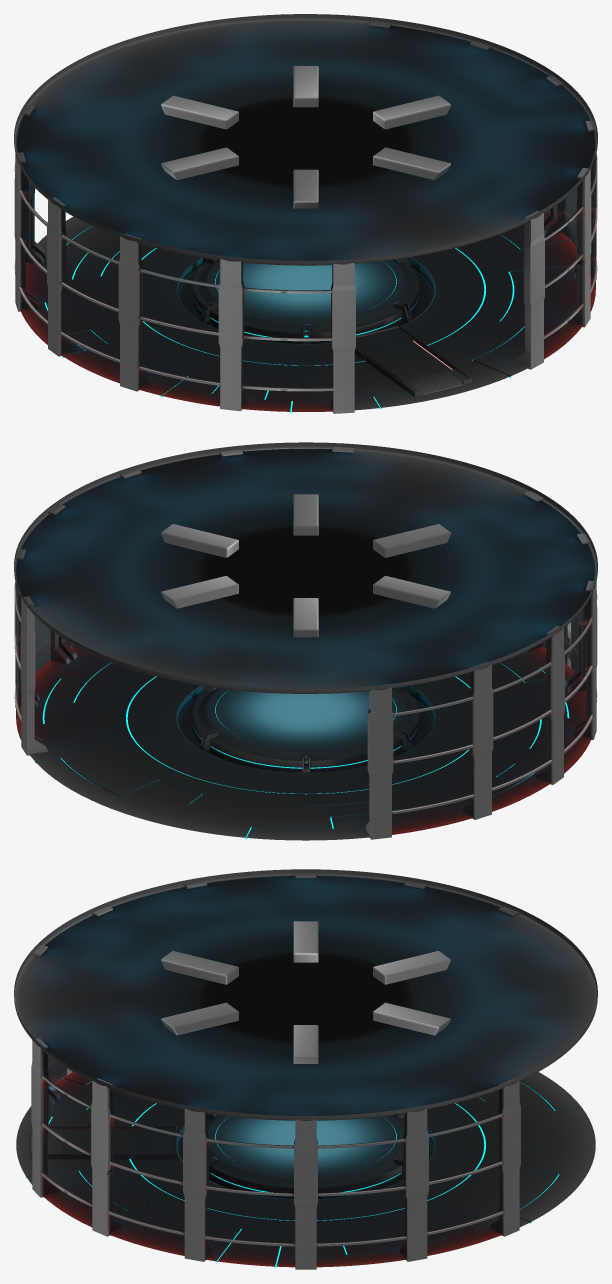
Rendered from scifi-platform-mr.glb.
3 renders of one model, top to bottom at view 1: azimuth 30°, elevation 25°; view 2: azimuth 150°, elevation 25°; view 3: azimuth 270°, elevation 25°, orthographic.
Parts seen in each view (by area): view 1: Black_Ground, Black_Wall, Black_LightUpper, Emissive_Cyan; view 2: Black_Ground, Black_Wall, Black_LightUpper, Emissive_Cyan; view 3: Black_Ground, Black_Wall, Black_LightUpper, Emissive_Cyan.
Boxes of the visible parts, x1=… form: Black_Ground: x1=14, y1=14, x2=597, y2=411; Black_Wall: x1=14, y1=21, x2=597, y2=413; Black_LightUpper: x1=161, y1=66, x2=450, y2=208; Emissive_Cyan: x1=44, y1=226, x2=570, y2=412; Black_Ground: x1=14, y1=442, x2=597, y2=840; Black_Wall: x1=14, y1=446, x2=597, y2=839; Black_LightUpper: x1=161, y1=494, x2=450, y2=637; Emissive_Cyan: x1=35, y1=646, x2=569, y2=838; Black_Ground: x1=14, y1=869, x2=597, y2=1267; Black_Wall: x1=31, y1=873, x2=520, y2=1269; Black_LightUpper: x1=161, y1=921, x2=450, y2=1063; Emissive_Cyan: x1=26, y1=1078, x2=559, y2=1267.
Size of the model in its own units: 39.76 by 12.38 by 39.74.
Materials: 6 (4 with a texture image).
